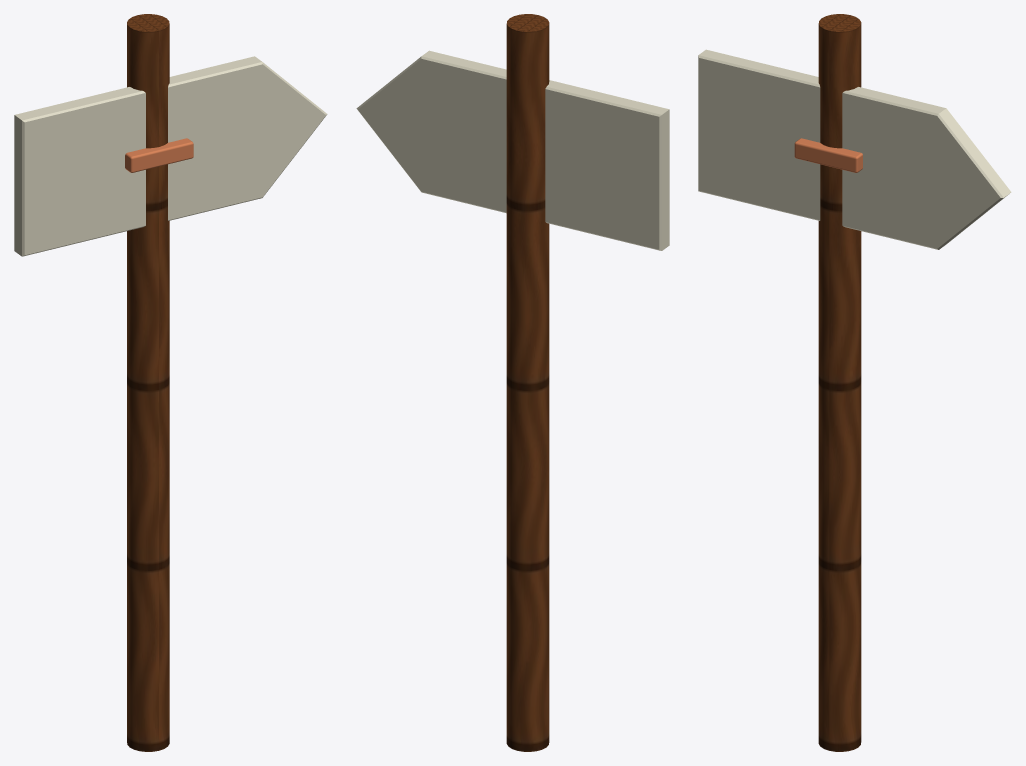
Rendered from prehistoric-expedition-sites-expedition-waymarker-be9ccda6__26139.glb.
3 renders of one model, left to right at view 1: azimuth 30°, elevation 25°; view 2: azimuth 150°, elevation 25°; view 3: azimuth 330°, elevation 25°, orthographic.
Visible parts, largest first — view 1: expedition-waymarker; view 2: expedition-waymarker; view 3: expedition-waymarker.
Boxes of the visible parts, bbox=[...] form: expedition-waymarker: bbox=[14, 14, 327, 751]; expedition-waymarker: bbox=[356, 14, 669, 751]; expedition-waymarker: bbox=[698, 14, 1011, 751].
Size of the model in its own units: 0.5772 by 1.3 by 0.0825.
3 materials, 1 textured.
